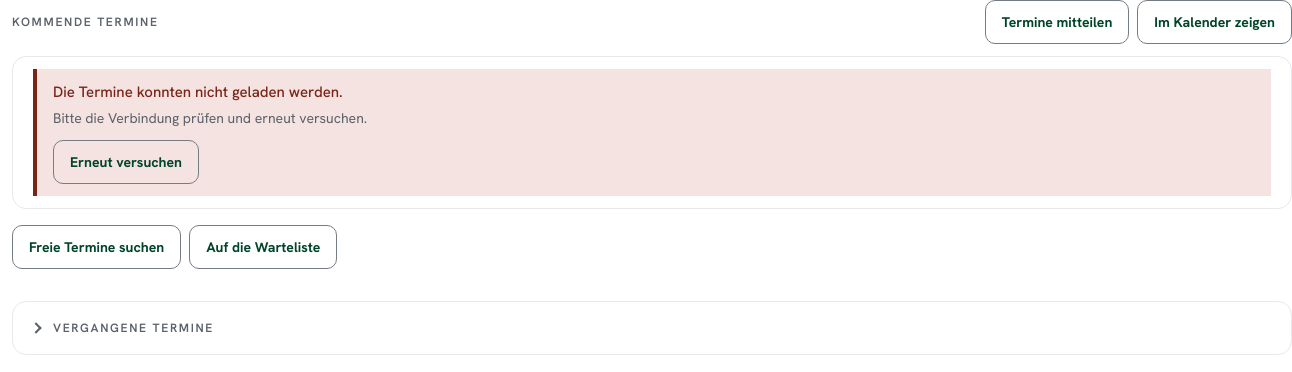
Test case: Terminbereich der Akte (AKTE-003) › bietet nach einem Ladefehler einen neuen Versuch an (WRT-01, UIK-16)
Expected: the text "Bitte die Verbindung prüfen und erneut versuchen." is shown, [53, 108, 367, 126]
Click the button "Erneut versuchen" at (126, 162), box [53, 140, 199, 184]
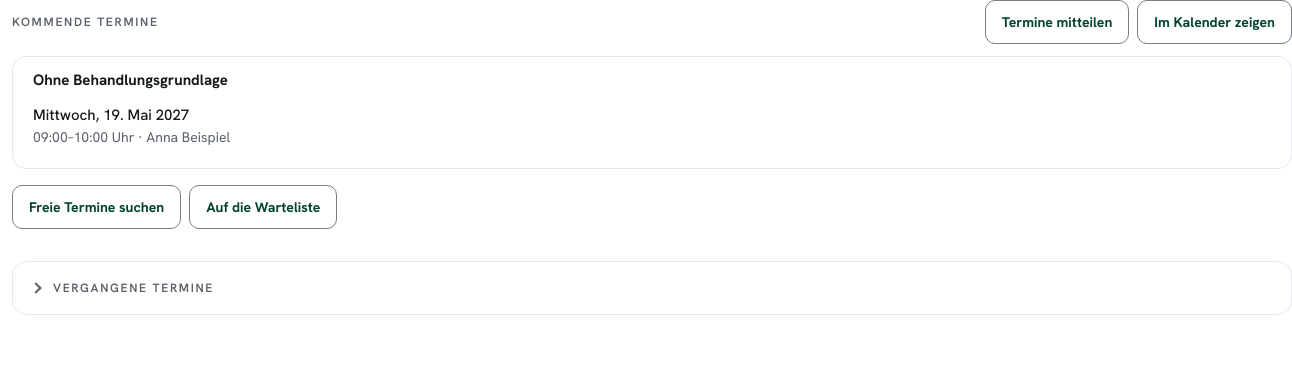
Expected: the text "Mittwoch, 19. Mai 2027" is shown, [33, 105, 189, 125]
